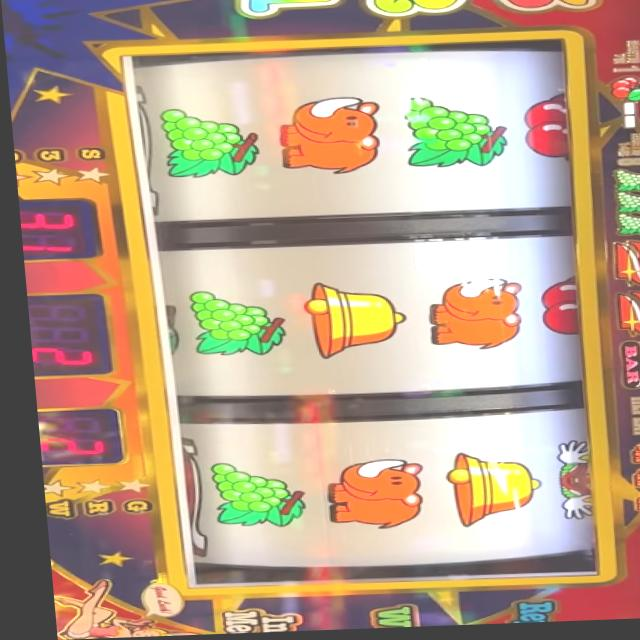bar: (612, 343, 640, 395)
bell: (287, 282, 400, 360), (438, 453, 535, 530)
cherry: (520, 98, 565, 167), (532, 280, 574, 341), (605, 79, 640, 107)
clown: (538, 445, 584, 523)
display: (129, 40, 604, 592)
elephant: (276, 99, 382, 178), (419, 281, 520, 356), (314, 460, 417, 533), (620, 470, 640, 494), (621, 446, 640, 469), (622, 494, 640, 517)
grape: (397, 97, 510, 174), (157, 108, 260, 182), (193, 462, 296, 531), (183, 287, 283, 358), (608, 172, 640, 197), (608, 195, 640, 218), (611, 216, 640, 239)
z: (604, 246, 640, 293), (607, 297, 640, 340)
